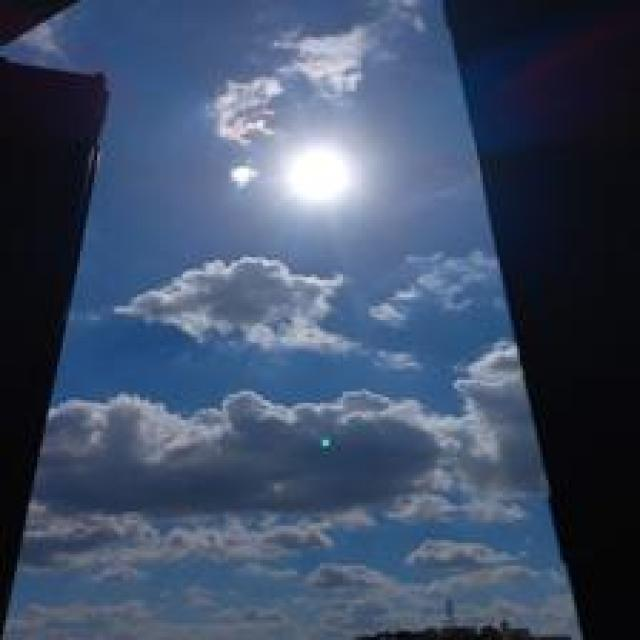sun: (289, 149, 349, 202)
